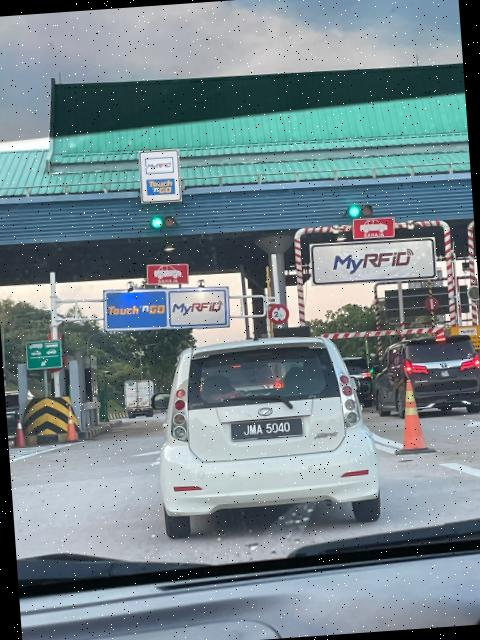License_Plate: (232, 417, 309, 447)
car: (151, 333, 384, 543)
